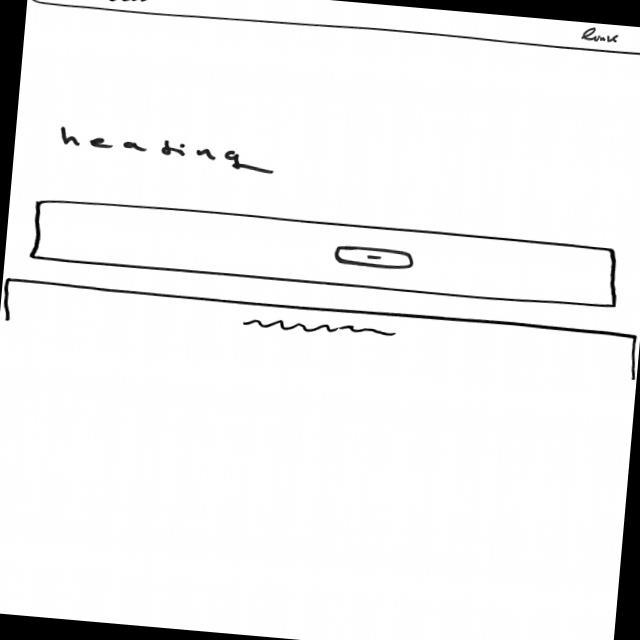container: (29, 195, 623, 312), (27, 1, 640, 61)
icon-button: (333, 245, 415, 273)
label: (58, 125, 280, 178), (579, 26, 621, 46), (57, 1, 155, 7)
text: (241, 316, 397, 345)
